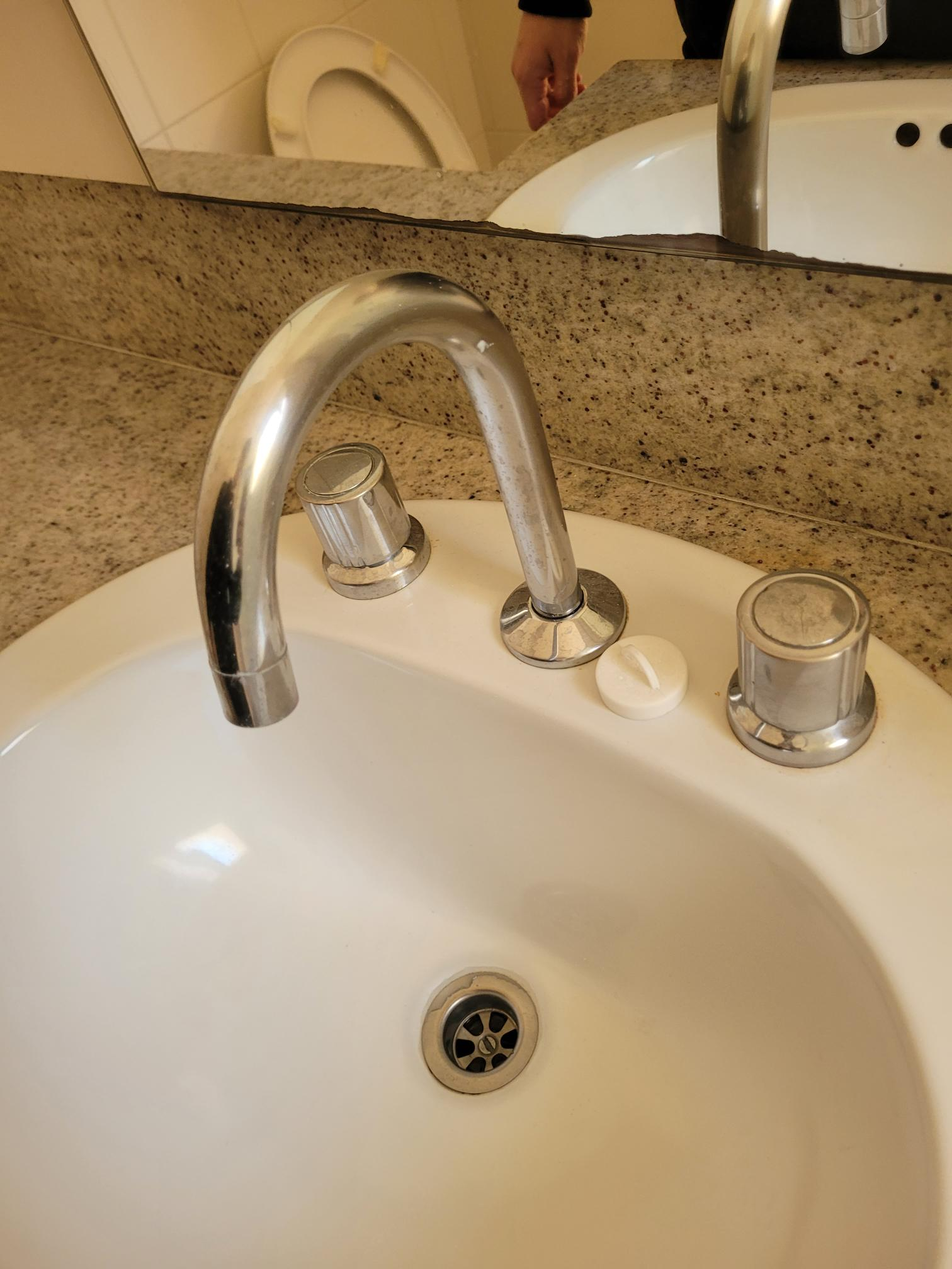torneira_fechada: (107, 221, 918, 810)
